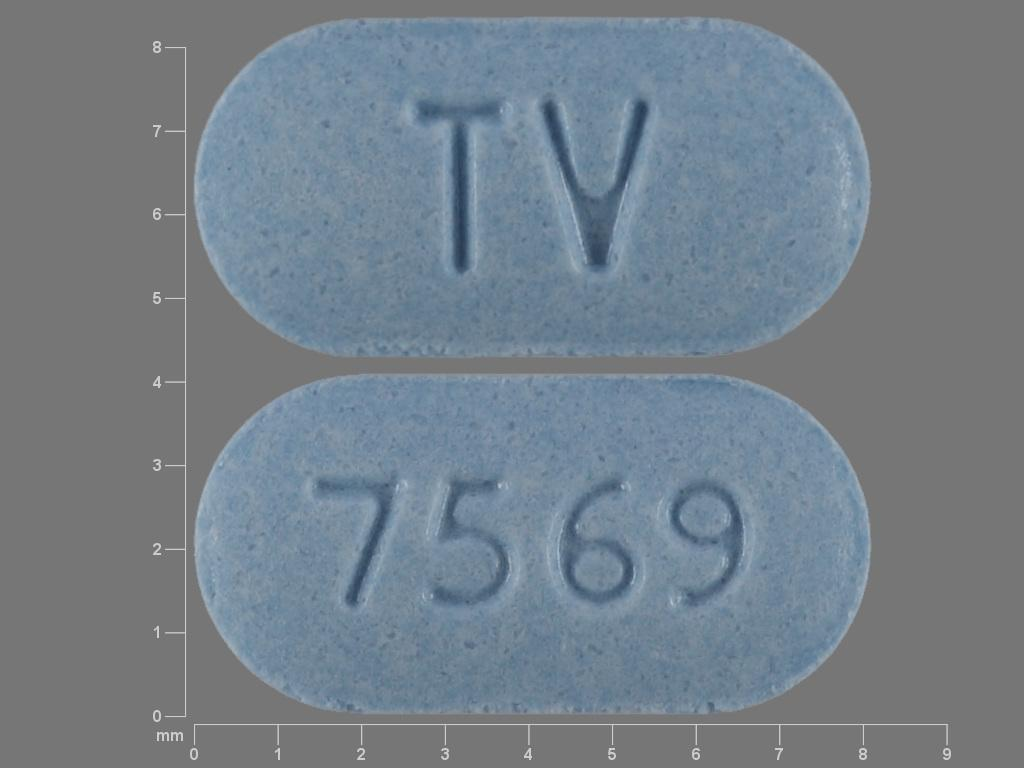Pill: (188, 10, 878, 365), (190, 369, 880, 720)
